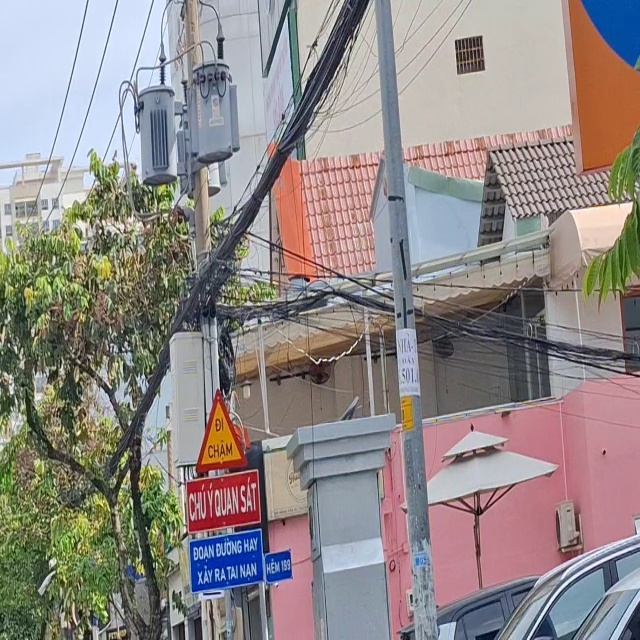di cham: (183, 379, 254, 472)
